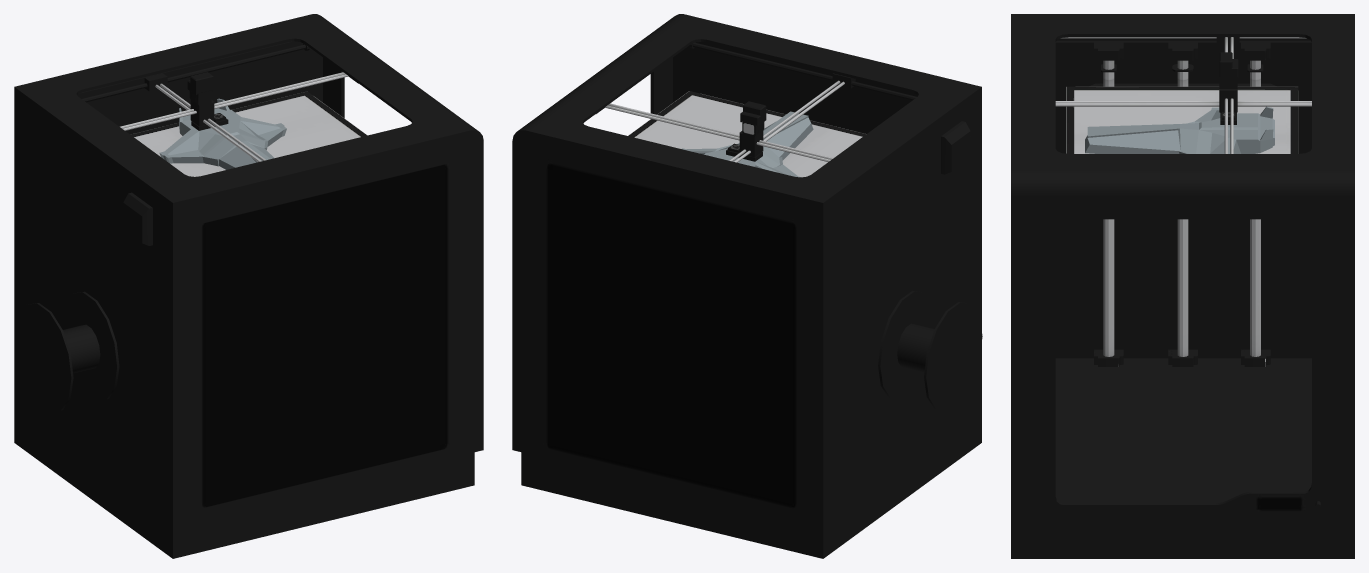
Rendered from mayin3D.glb.
The picture shows the model from 3 angles, left to right: view 1: azimuth 30°, elevation 25°; view 2: azimuth 150°, elevation 25°; view 3: azimuth 270°, elevation 25°; orthographic projection. The views are drawn at different scales.
Visible parts, largest first — view 1: mayin, de_in, object, dau_in, thanh1, thanh2; view 2: mayin, de_in, object, dau_in, thanh1, thanh2; view 3: mayin, de_in, object, thanh2, dau_in, thanh1.
Boxes of the visible parts, x1=… form: mayin: x1=14, y1=14, x2=483, y2=558; de_in: x1=130, y1=91, x2=367, y2=176; object: x1=159, y1=98, x2=286, y2=169; dau_in: x1=187, y1=72, x2=228, y2=130; thanh1: x1=120, y1=72, x2=358, y2=130; thanh2: x1=144, y1=73, x2=266, y2=161; mayin: x1=512, y1=14, x2=982, y2=558; de_in: x1=628, y1=91, x2=866, y2=177; object: x1=682, y1=111, x2=813, y2=177; dau_in: x1=726, y1=101, x2=766, y2=161; thanh1: x1=596, y1=103, x2=833, y2=161; thanh2: x1=729, y1=73, x2=855, y2=162; mayin: x1=1011, y1=14, x2=1354, y2=558; de_in: x1=1066, y1=83, x2=1298, y2=153; object: x1=1085, y1=106, x2=1274, y2=153; thanh2: x1=1055, y1=101, x2=1311, y2=106; dau_in: x1=1219, y1=52, x2=1238, y2=124; thanh1: x1=1216, y1=37, x2=1239, y2=153.
Size of the model in its own units: 106 by 104 by 79.
2 materials, 1 textured.
